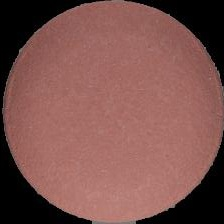63629-3337: (0, 0, 224, 224)
